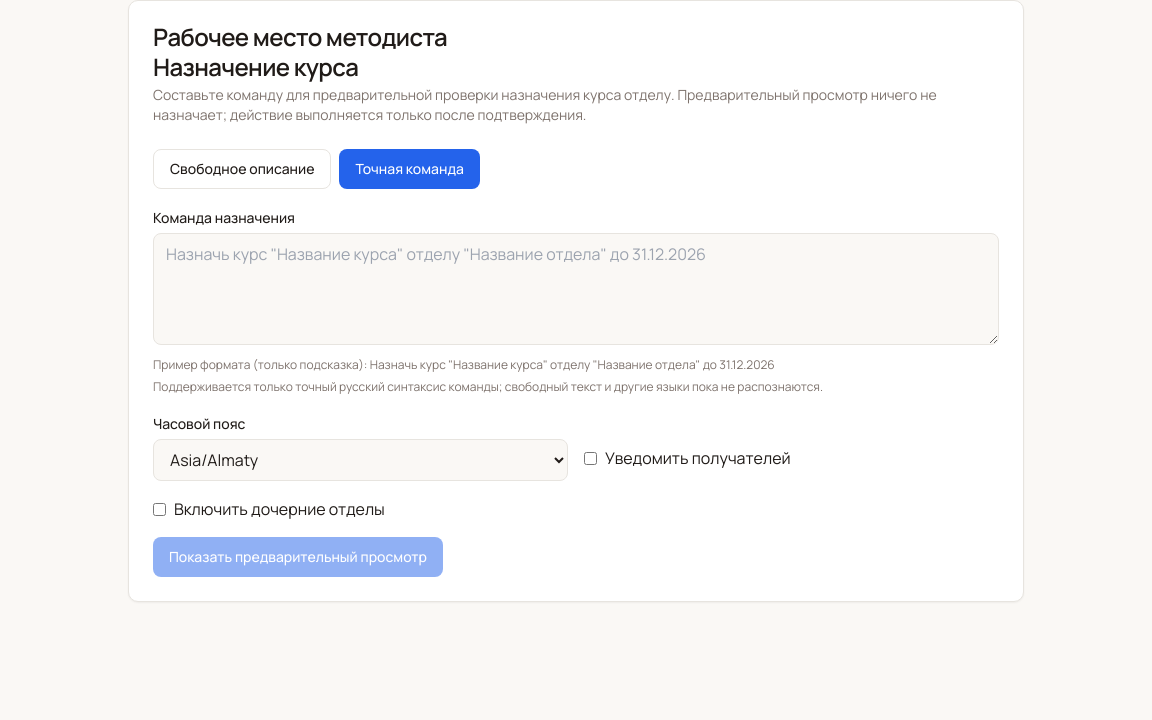
Scenario: AssignmentWorkbench › uses the explicit defaults and renders a validated preview before confirmation
Expected: the button "Показать предварительный просмотр" is disabled, [153, 537, 443, 577]
Replace the text in the text box labelled "Команда назначения" with "Назначь курс \"Safety\" отделу \"Operations\" до 31.12.2026" at point(576, 289), box [153, 233, 999, 345]
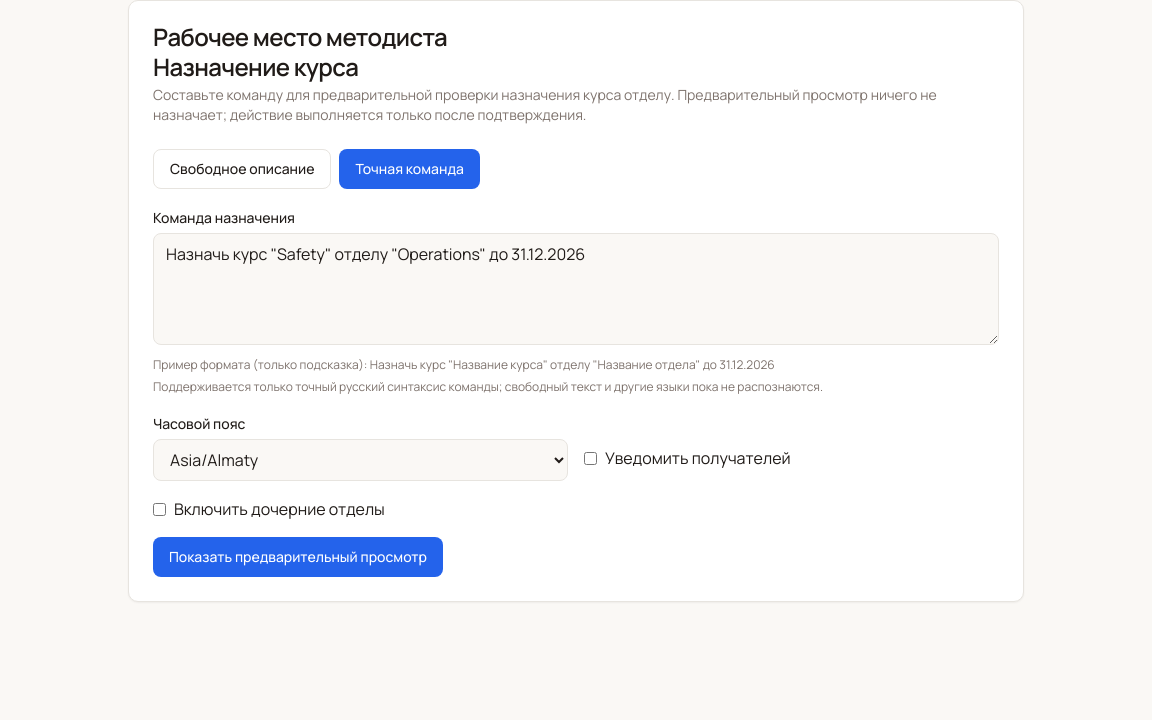
Click the button "Показать предварительный просмотр" at point(298, 557), box [153, 537, 443, 577]
(page scrolled)
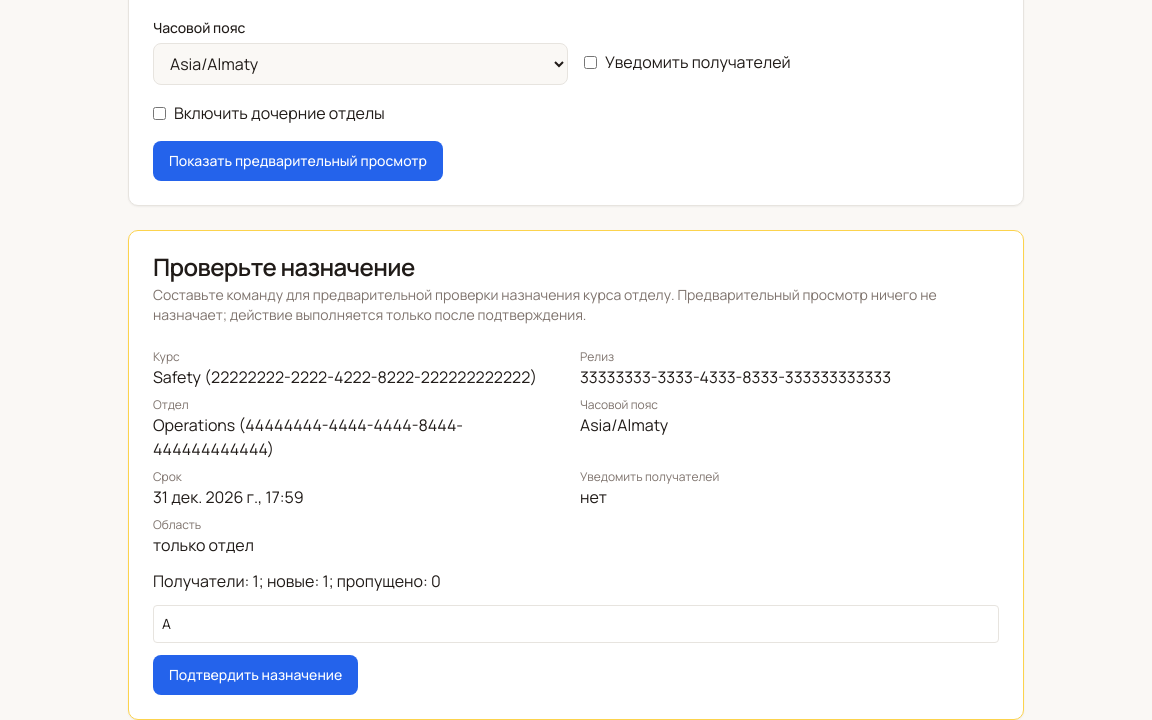
Result: the text "Safety (22222222-2222-4222-8222-222222222222)" is shown at [153, 365, 572, 389]
